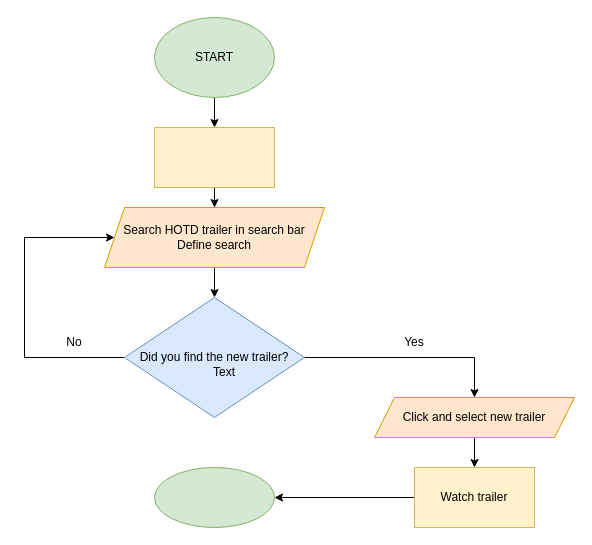
Some shapes in this 592 by 545 pixel diagram are drawn without their labels. Each missing label, with the centre of its shape:
"STOP" goes at (214,497).
"Turn on PC/TV select YouTube App" goes at (214,157).
